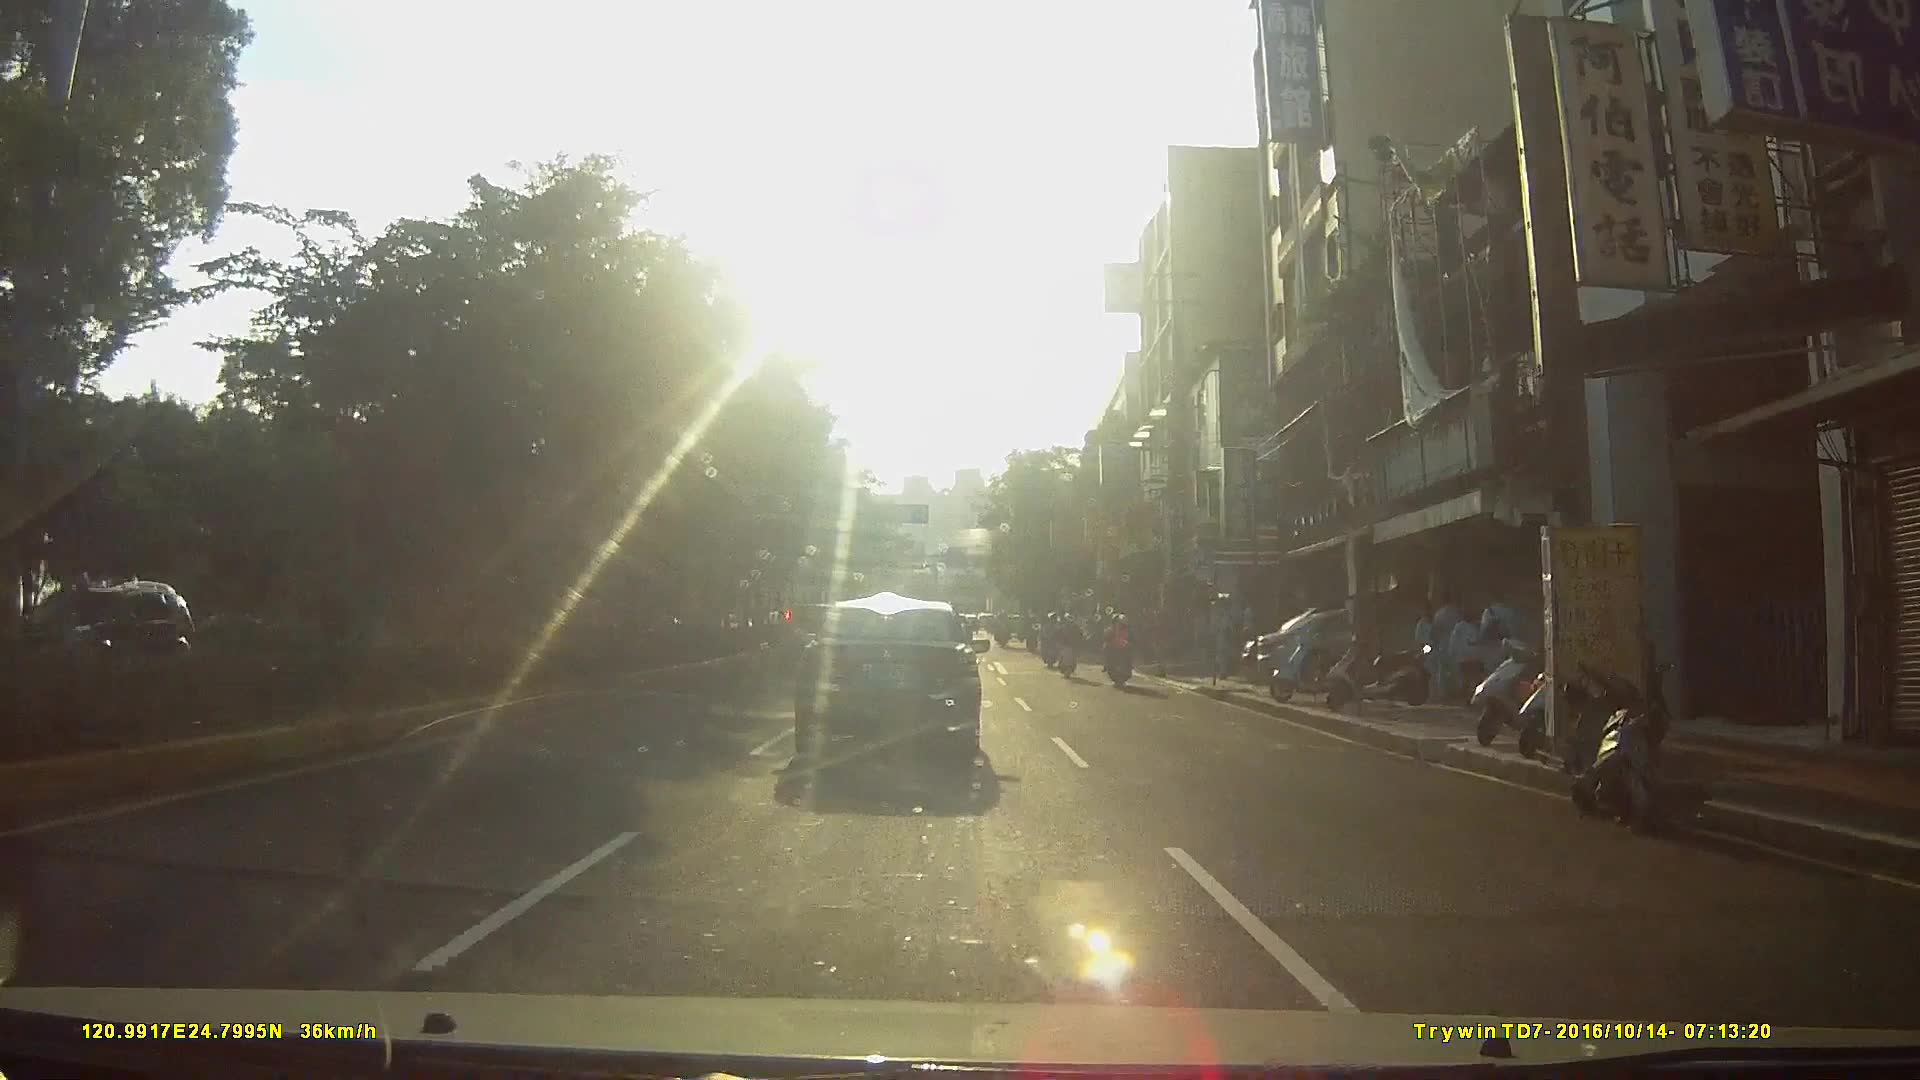pedestrian: (1475, 578, 1520, 724), (1439, 598, 1486, 712), (1431, 581, 1467, 711)
rider: (1104, 613, 1138, 691), (1055, 612, 1083, 680), (1042, 611, 1062, 670)
vehicle: (792, 598, 1007, 787), (19, 578, 192, 706)
